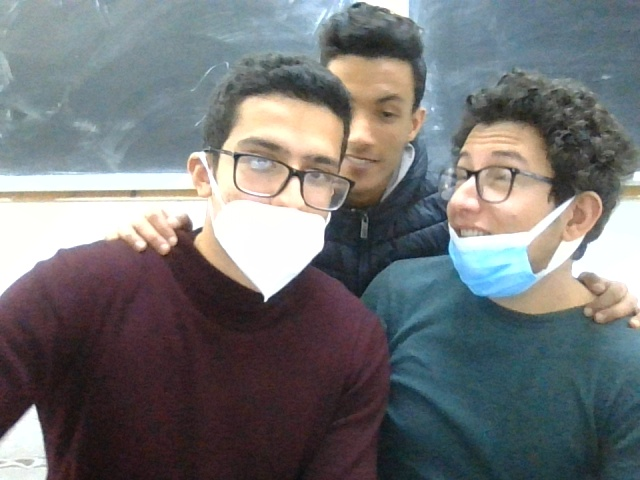mask_weared_incorrect: (450, 77, 607, 305), (193, 62, 348, 291)
